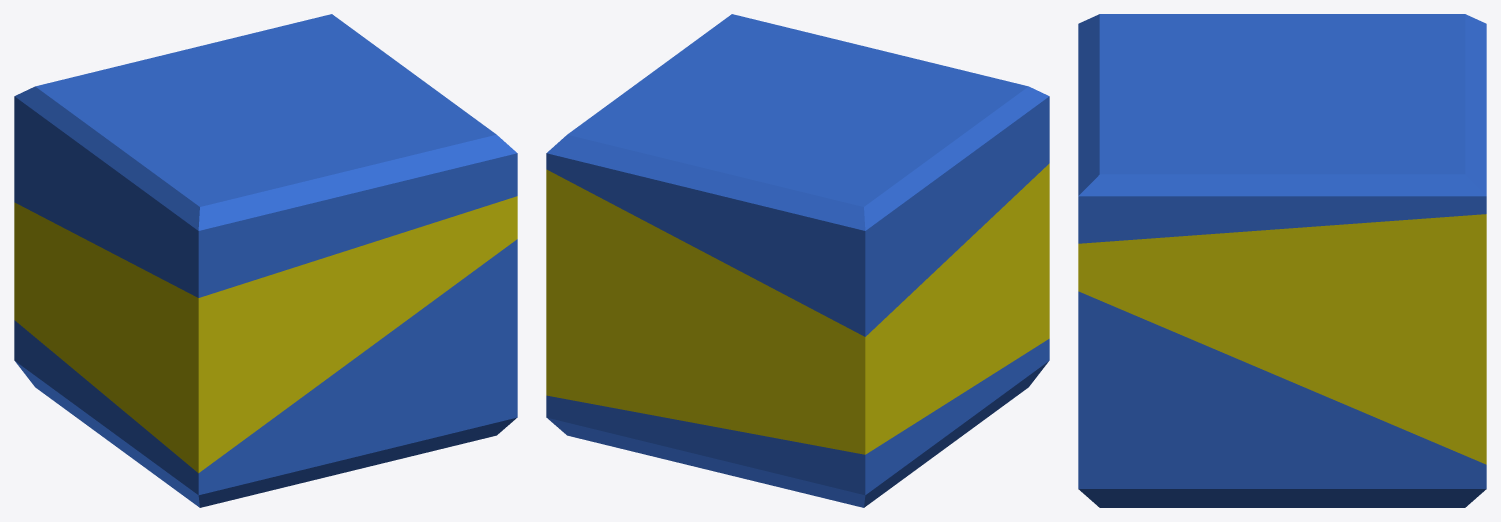
The picture shows the model from 3 angles, left to right: view 1: azimuth 30°, elevation 25°; view 2: azimuth 150°, elevation 25°; view 3: azimuth 270°, elevation 25°; orthographic projection. The views are drawn at different scales.
Parts seen in each view (by area): view 1: Cube; view 2: Cube; view 3: Cube.
Boxes of the visible parts, bbox=[...] form: Cube: bbox=[14, 14, 517, 507]; Cube: bbox=[546, 14, 1049, 507]; Cube: bbox=[1078, 14, 1486, 507].
Size of the model in its own units: 2 by 1.8 by 2.
